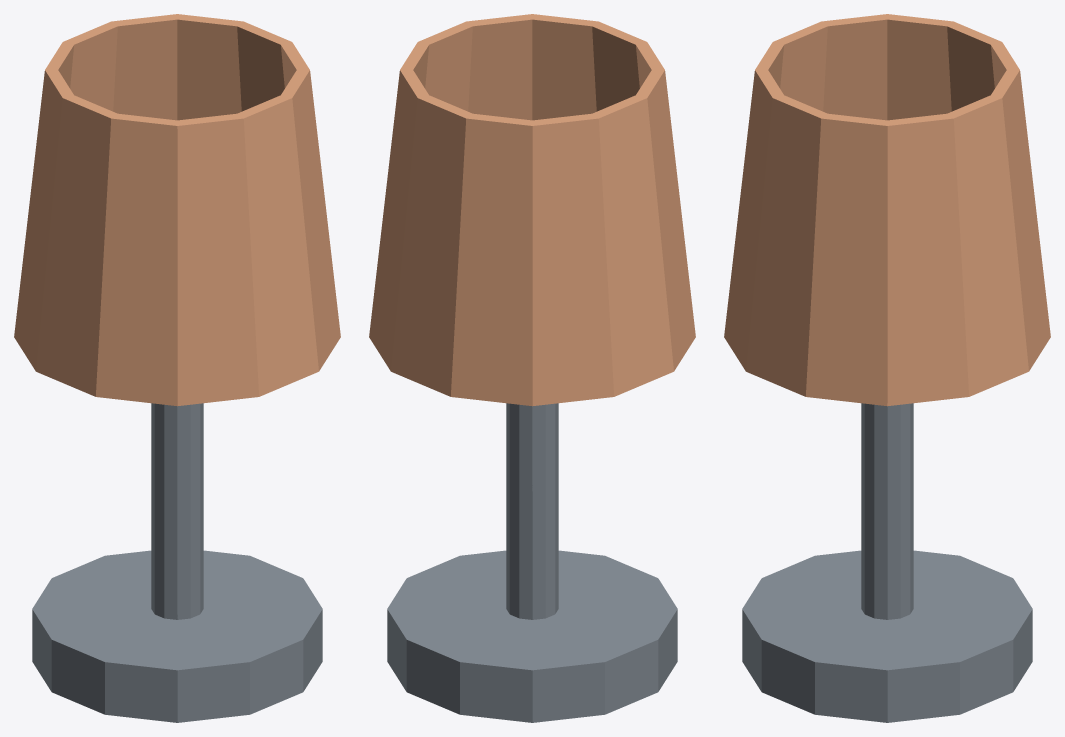
The model's file is SmallLamp.fbx.
3 renders of one model, left to right at view 1: azimuth 30°, elevation 25°; view 2: azimuth 150°, elevation 25°; view 3: azimuth 270°, elevation 25°, orthographic.
Parts seen in each view (by area): view 1: Cylinder.001, Cylinder; view 2: Cylinder.001, Cylinder; view 3: Cylinder.001, Cylinder.
Boxes of the visible parts, box(x1,y1,x2,y2) form: Cylinder.001: box(14, 14, 340, 406); Cylinder: box(32, 403, 322, 722); Cylinder.001: box(369, 14, 695, 406); Cylinder: box(387, 403, 677, 722); Cylinder.001: box(724, 14, 1050, 406); Cylinder: box(742, 403, 1032, 722).
Size of the model in its own units: 112 by 225 by 112.
